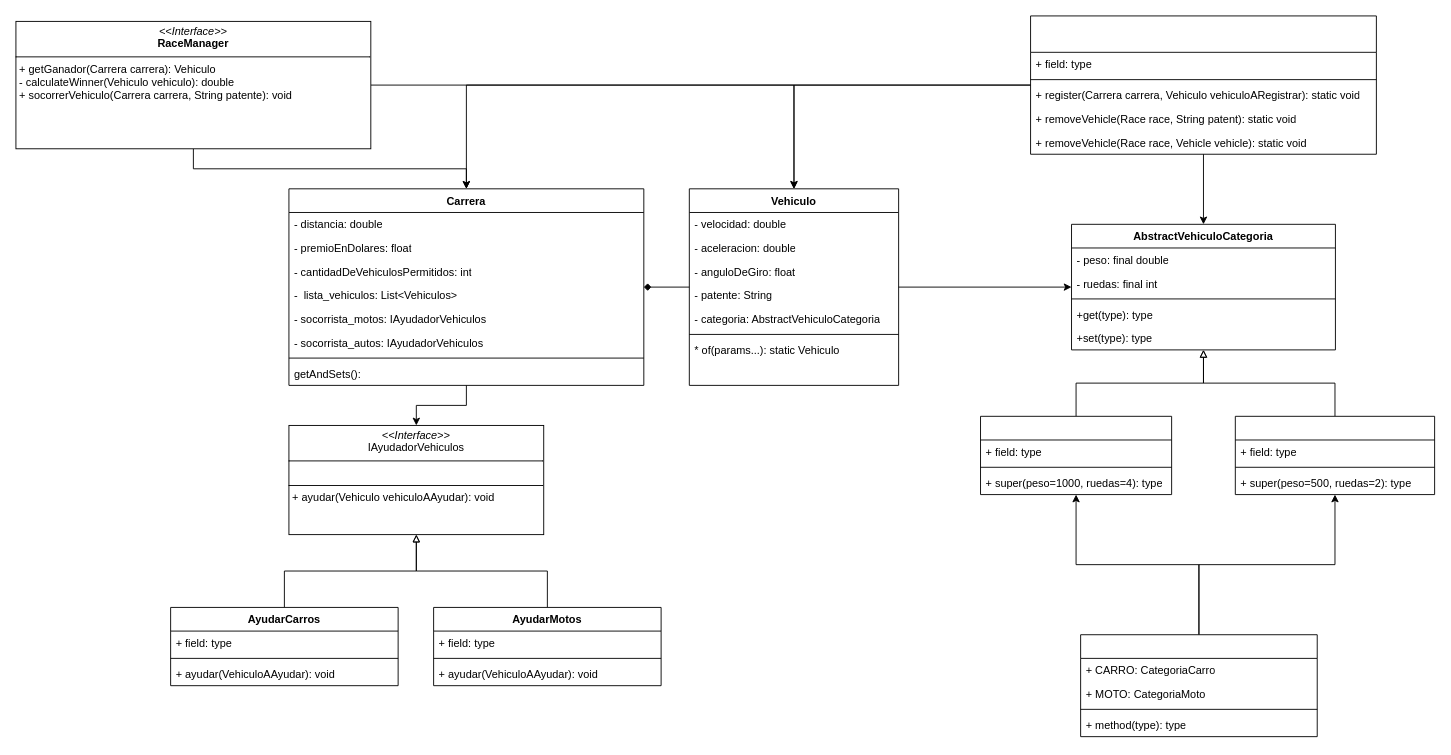
The diagram is 1451 pixels wide and 755 high, and some of its shapes have lost their labels. The shapes that lost their labels are listed below. From the top down, each one's box as (x1, y1, x2, y2) in pixels, then its label:
(1030, 15, 1376, 154): «interface» GestorVehiculos
(980, 415, 1172, 495): CategoriaCarro
(1234, 415, 1435, 495): CategoriaMoto
(1080, 634, 1317, 737): Enum CategoriaVehiculo
